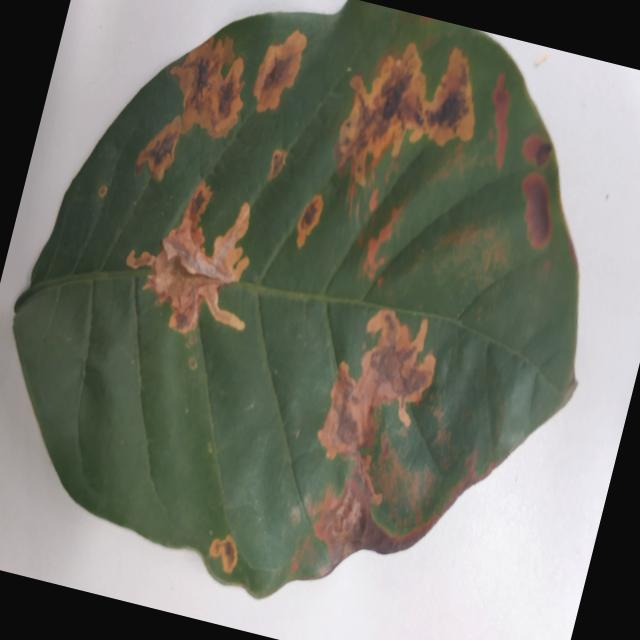KaratDaunKopi: (317, 309, 435, 504), (334, 42, 474, 186), (126, 180, 249, 332), (314, 459, 386, 567), (171, 37, 244, 138), (253, 30, 306, 111), (136, 116, 181, 181), (522, 172, 551, 248), (137, 125, 169, 180), (492, 73, 509, 170), (296, 194, 323, 248), (209, 534, 237, 574), (522, 135, 551, 167), (267, 149, 286, 181), (301, 202, 317, 228)
